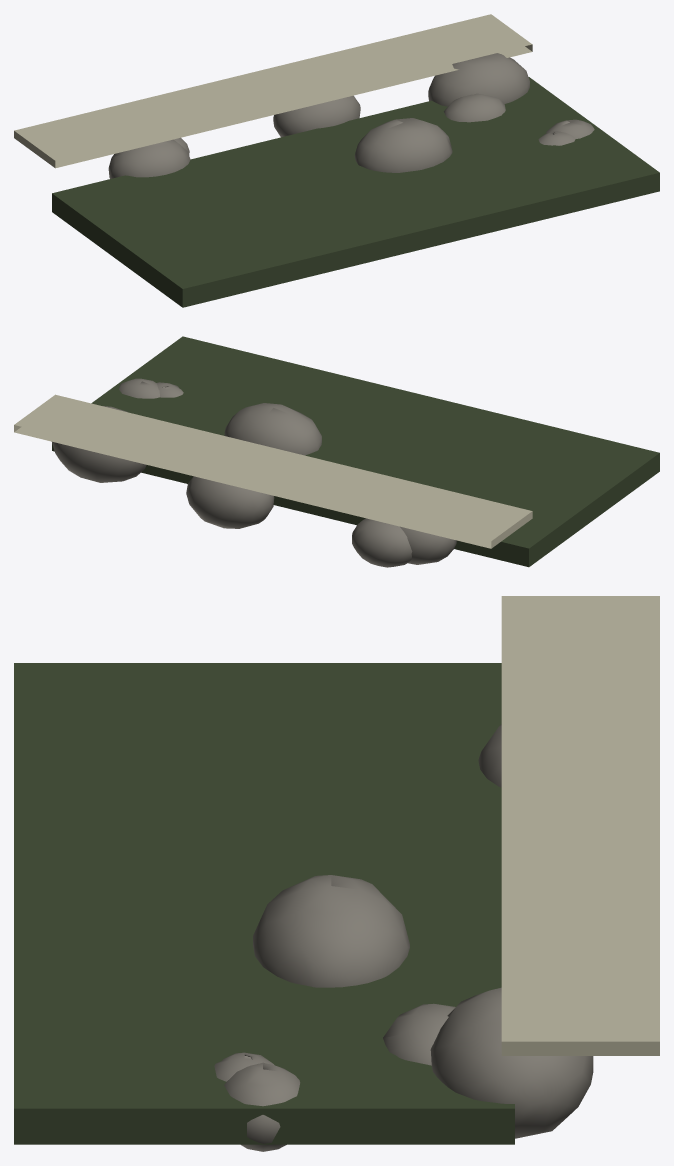
The model's file is f07-bank-boulder-shore.lod1.glb.
3 renders of one model, top to bottom at view 1: azimuth 30°, elevation 25°; view 2: azimuth 150°, elevation 25°; view 3: azimuth 270°, elevation 25°, orthographic. The views are drawn at different scales.
Visible parts, largest first — view 1: part9, part10, part2, part8, part7, part4, part6, part1; view 2: part9, part10, part2, part4, part3, part8, part7, part1; view 3: part9, part10, part2, part8, part1, part6, part7, part0.
Part boxes in pixels (box(x1,y1,x2,y2)): part9: box(52, 77, 659, 307); part10: box(14, 14, 532, 168); part2: box(354, 118, 452, 172); part8: box(428, 53, 529, 106); part7: box(108, 139, 190, 178); part4: box(273, 95, 360, 137); part6: box(444, 93, 505, 122); part1: box(546, 119, 594, 138); part9: box(52, 336, 659, 567); part10: box(14, 394, 532, 548); part2: box(224, 403, 321, 455); part4: box(186, 476, 274, 528); part3: box(352, 518, 412, 567); part8: box(52, 406, 146, 482); part7: box(400, 526, 456, 564); part1: box(119, 378, 159, 398); part9: box(14, 663, 514, 1144); part10: box(501, 596, 659, 1055); part2: box(253, 875, 409, 987); part8: box(430, 987, 593, 1138); part1: box(224, 1062, 300, 1151); part6: box(383, 1003, 455, 1065); part7: box(478, 724, 501, 787); part0: box(214, 1052, 274, 1081).
Size of the model in its own units: 8028 by 1113 by 4900.
